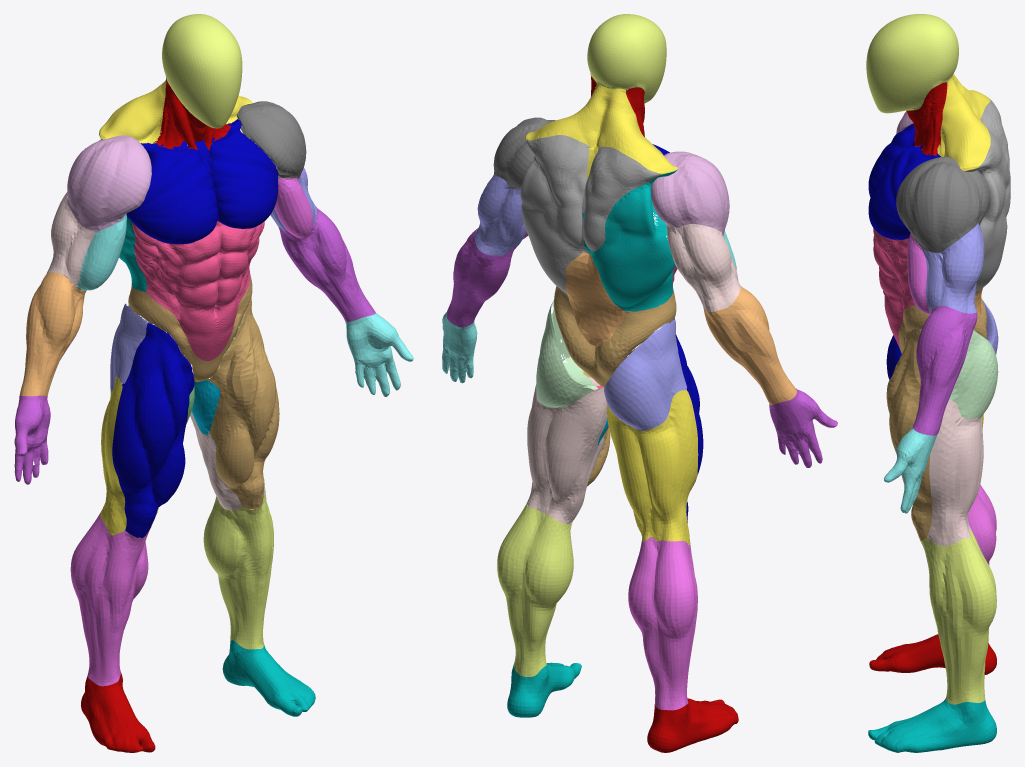
The model's file is maniqui.glb.
3 renders of one model, left to right at view 1: azimuth 30°, elevation 25°; view 2: azimuth 150°, elevation 25°; view 3: azimuth 270°, elevation 25°, orthographic.
Visible parts, largest first — view 1: pecho, cuadriceps_der, abdomen, cuadriceps_izq, pantorrilla_der, pantorrilla_izq, cabeza, hombro_der, antebrazo_der, antebrazo_izq, pie_izq, pie_der (+14 smaller); view 2: femoral_der, pantorrilla_der, pantorrilla_izq, femoral_izq, trapecio_medio, dorsal_der, gluteo_der, cabeza, trapecio_superior, antebrazo_der, hombro_der, pelvis (+12 smaller); view 3: pantorrilla_izq, cabeza, hombro_izq, femoral_izq, antebrazo_izq, pie_izq, cuadriceps_izq, tricep_izq, pecho, trapecio_superior, gluteo_izq, abdomen (+10 smaller).
Part boxes in pixels (x1,y1,x2,y2): pecho: (126, 119, 278, 244); cuadriceps_der: (112, 322, 194, 537); abdomen: (132, 221, 264, 361); cuadriceps_izq: (206, 298, 279, 509); pantorrilla_der: (70, 513, 149, 686); pantorrilla_izq: (203, 494, 273, 649); cabeza: (162, 14, 242, 128); hombro_der: (67, 135, 151, 232); antebrazo_der: (19, 272, 86, 396); antebrazo_izq: (279, 207, 375, 321); pie_izq: (222, 640, 315, 716); pie_der: (81, 672, 155, 752); femoral_der: (607, 389, 698, 545); pantorrilla_der: (628, 537, 697, 710); pantorrilla_izq: (497, 504, 573, 676); femoral_izq: (526, 377, 607, 524); trapecio_medio: (525, 135, 660, 251); dorsal_der: (582, 169, 677, 311); gluteo_der: (604, 319, 686, 430); cabeza: (587, 14, 666, 103); trapecio_superior: (525, 83, 677, 179); antebrazo_der: (703, 286, 796, 405); hombro_der: (651, 151, 729, 235); pelvis: (554, 286, 676, 387); pantorrilla_izq: (920, 530, 996, 704); cabeza: (866, 14, 958, 113); hombro_izq: (896, 156, 989, 253); femoral_izq: (927, 400, 983, 545); antebrazo_izq: (913, 305, 977, 435); pie_izq: (868, 698, 996, 752); cuadriceps_izq: (886, 329, 932, 540); tricep_izq: (922, 223, 984, 313); pecho: (868, 123, 940, 239); trapecio_superior: (937, 73, 990, 170); gluteo_izq: (949, 330, 998, 418); abdomen: (873, 228, 915, 347).
Size of the model in its own units: 0.0692 by 0.1167 by 0.0222.
